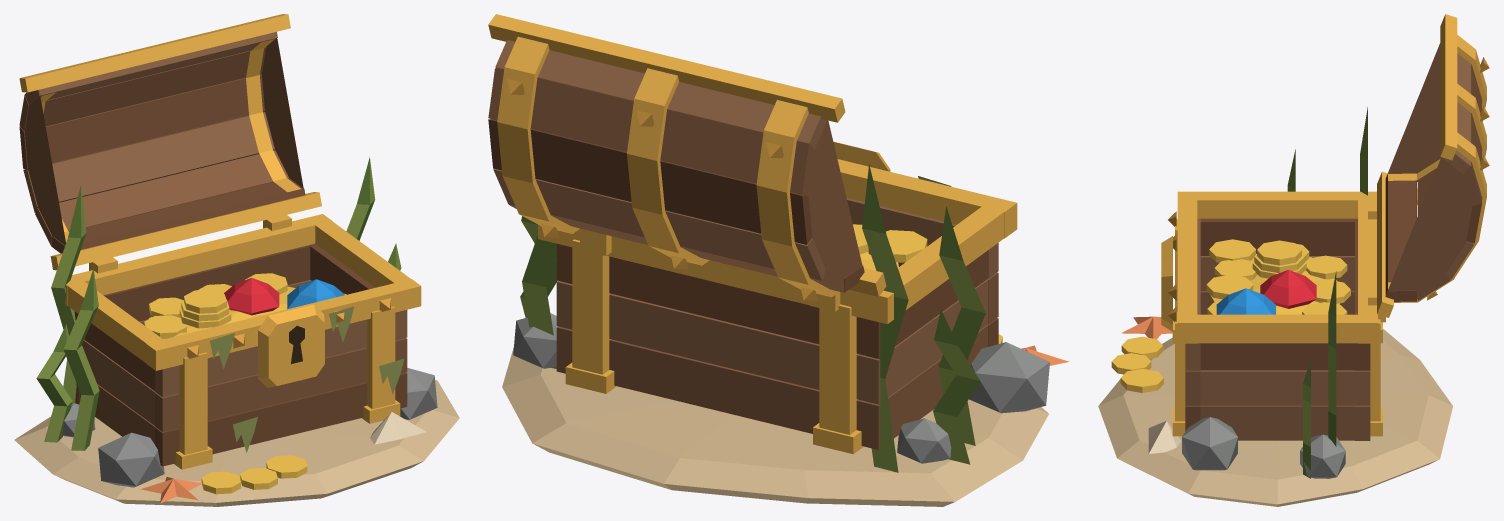
File: TreasureChestDecoration.fbx
3 renders of one model, left to right at view 1: azimuth 30°, elevation 25°; view 2: azimuth 150°, elevation 25°; view 3: azimuth 270°, elevation 25°, orthographic. The views are drawn at different scales.
Visible parts, largest first — view 1: Chest_Lid, Chest_Base, Sand_Base.001, Chest_Lock, Seaweed_00, Rock_00, Seaweed_04.001, Seaweed_01.001, Ruby_Gem, Rock_01, Seaweed_02.001, Sapphire_Gem (+10 smaller); view 2: Chest_Lid, Chest_Base, Sand_Base.001, Seaweed_04.001, Rock_00, Seaweed_00, Seaweed_01.001, Seaweed_02.001, Rock_03, Rock_02, Chest_Hinges, Gold_Coin_01 (+1 smaller); view 3: Chest_Base, Sand_Base.001, Chest_Lid, Rock_01, Ruby_Gem, Rock_02, Seaweed_02.001, Sapphire_Gem, Chest_Lock, Gold_Coin_12, Gold_Coin_01, Gold_Coin_15 (+11 smaller).
Boxes of the visible parts, x1,y1,x2,y2 form: Chest_Lid: (19, 14, 321, 270); Chest_Base: (65, 214, 421, 469); Sand_Base.001: (14, 380, 459, 506); Chest_Lock: (258, 304, 324, 387); Seaweed_00: (63, 268, 99, 450); Rock_00: (98, 432, 164, 487); Seaweed_04.001: (51, 185, 86, 403); Seaweed_01.001: (36, 324, 72, 442); Ruby_Gem: (224, 278, 279, 315); Rock_01: (400, 368, 437, 419); Seaweed_02.001: (346, 157, 375, 240); Sapphire_Gem: (287, 279, 344, 309); Chest_Lid: (488, 14, 886, 300); Chest_Base: (538, 159, 1017, 454); Sand_Base.001: (502, 347, 1048, 506); Seaweed_04.001: (862, 164, 908, 472); Rock_00: (969, 342, 1049, 413); Seaweed_00: (938, 206, 985, 445); Seaweed_01.001: (933, 309, 980, 464); Seaweed_02.001: (522, 235, 556, 368); Rock_03: (897, 418, 951, 463); Rock_02: (513, 313, 557, 368); Chest_Hinges: (580, 228, 840, 311); Gold_Coin_01: (868, 230, 927, 262); Chest_Base: (1168, 191, 1382, 440); Sand_Base.001: (1098, 329, 1453, 506); Chest_Lid: (1377, 14, 1489, 317); Rock_01: (1182, 417, 1237, 470); Ruby_Gem: (1260, 270, 1316, 308); Rock_02: (1300, 434, 1345, 478); Seaweed_02.001: (1328, 271, 1336, 446); Sapphire_Gem: (1216, 288, 1275, 314); Chest_Lock: (1161, 236, 1172, 331); Gold_Coin_12: (1257, 240, 1301, 265); Gold_Coin_01: (1209, 239, 1255, 262); Gold_Coin_15: (1120, 368, 1163, 392).
Size of the model in its own units: 500 by 411 by 434.
Materials: 1 (1 with a texture image).
